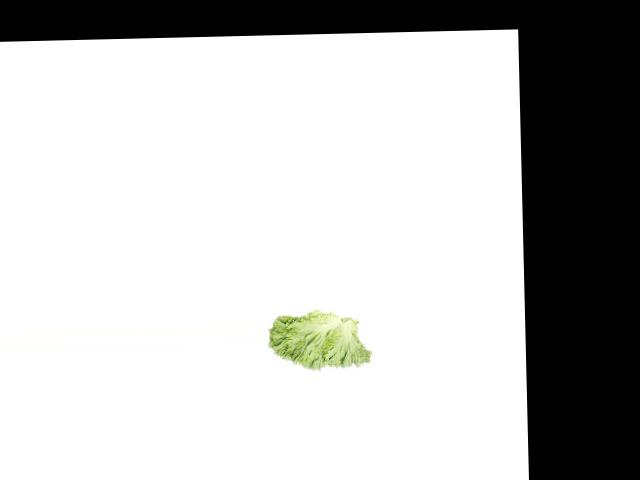lettuce: (266, 304, 371, 379)
